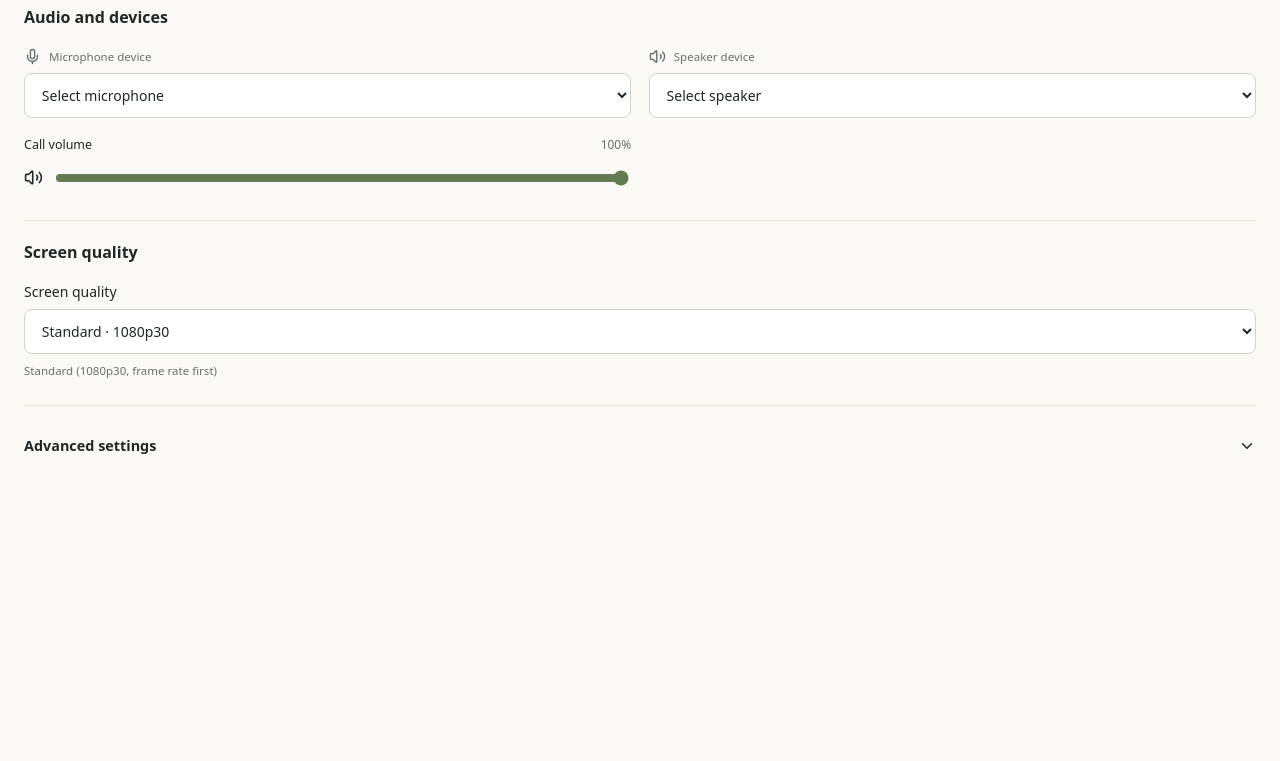
Test: grouped meeting settings › keeps advanced controls collapsed while quality stays visible with complete selected details
Click the heading "Advanced settings". click: x=90, y=446
box: [24, 436, 1256, 455]
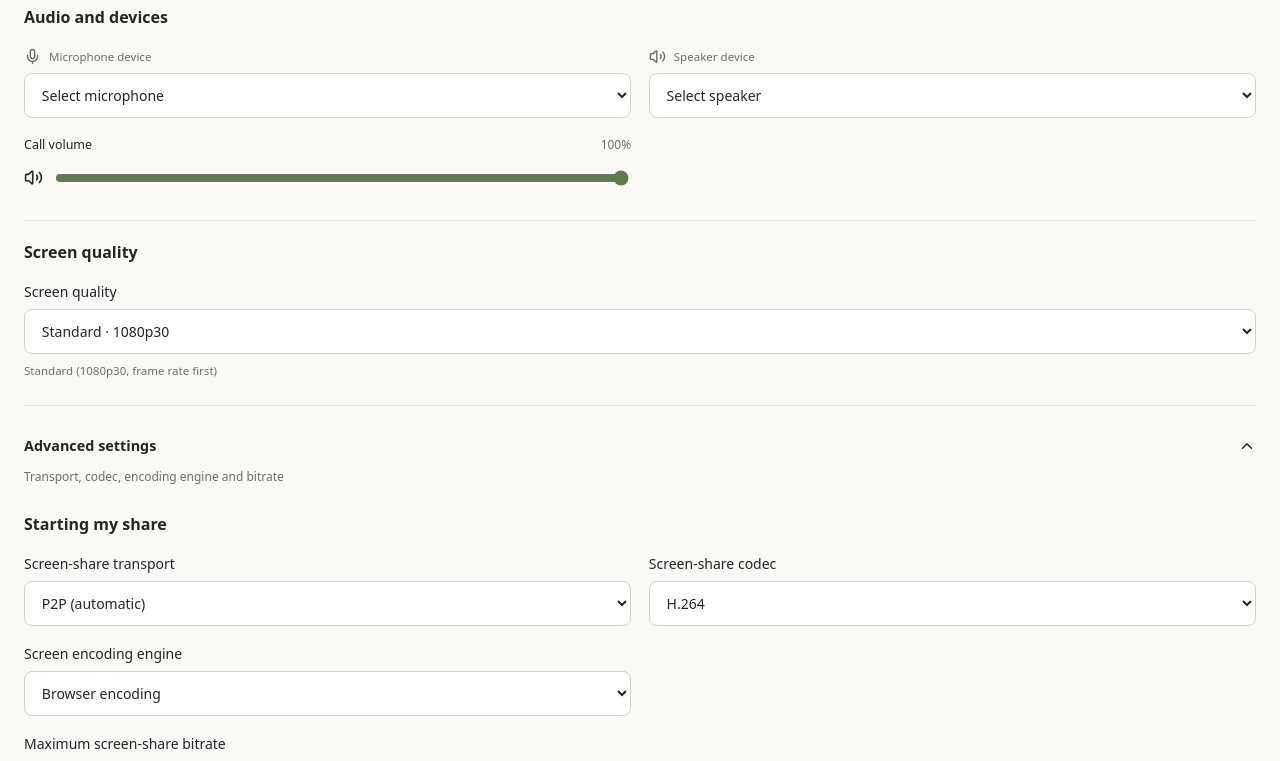
Expected: the dropdown labelled "Screen-share codec" shows "H.264", [649, 581, 1256, 626]
